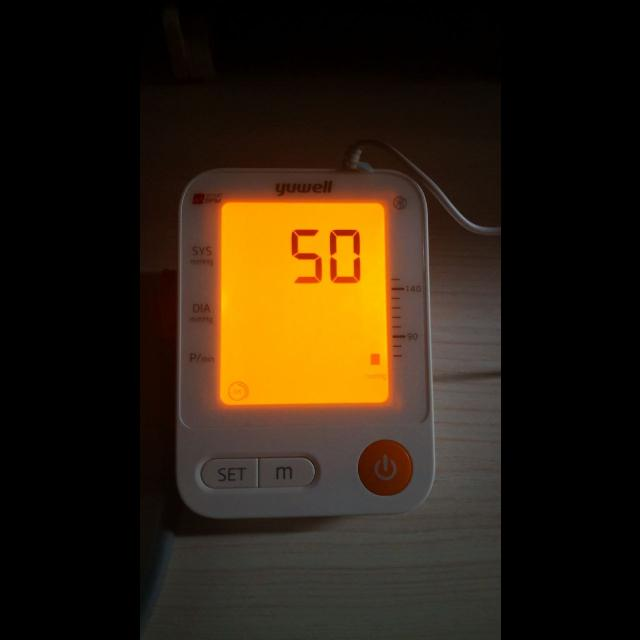Blood-Pressure-Monitor: (179, 167, 435, 521)
